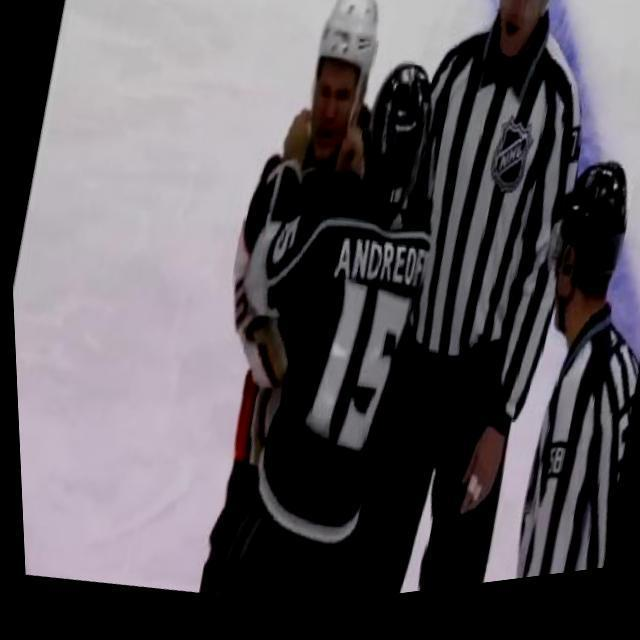fight: (143, 0, 498, 626)
